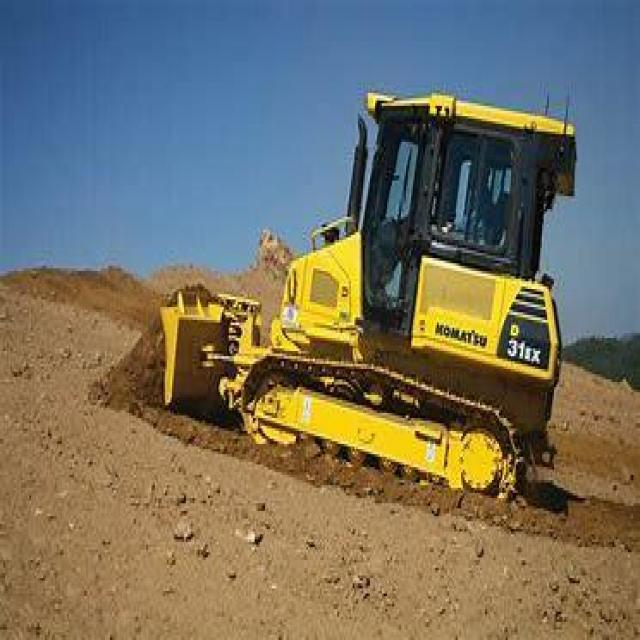Bulldozer: (145, 57, 590, 521)
